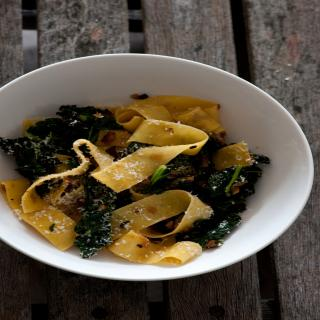Pasta: (27, 75, 275, 257)
